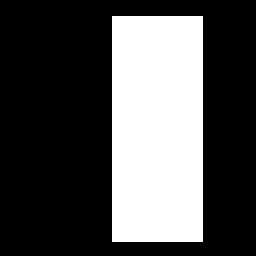person: (112, 16, 202, 241)
